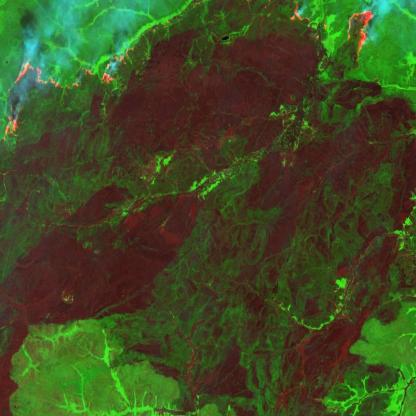fire: (1, 46, 138, 142), (284, 0, 381, 57)
